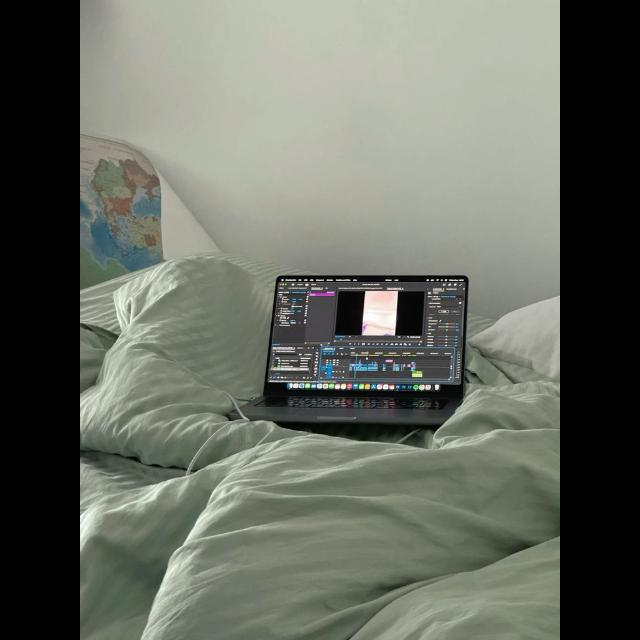laptop: (266, 271, 458, 439)
